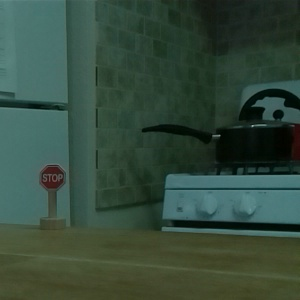stop sign: (35, 162, 70, 233)
